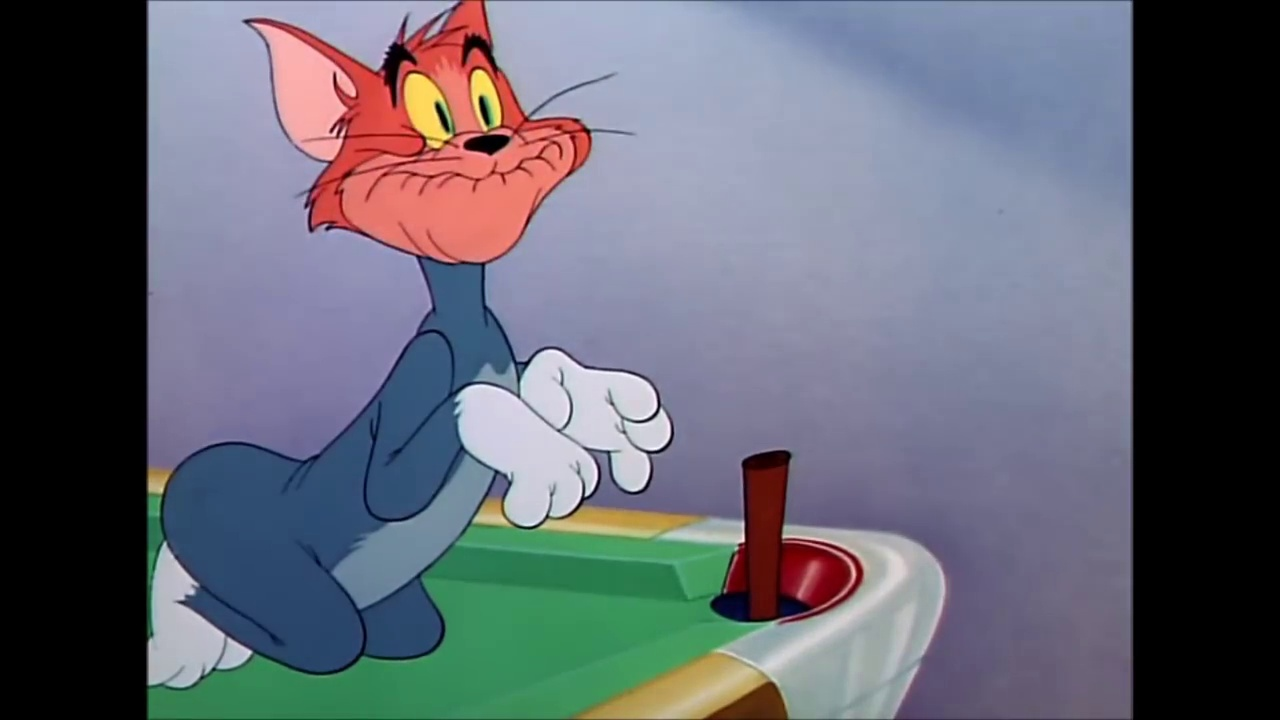sad: (373, 27, 525, 270)
